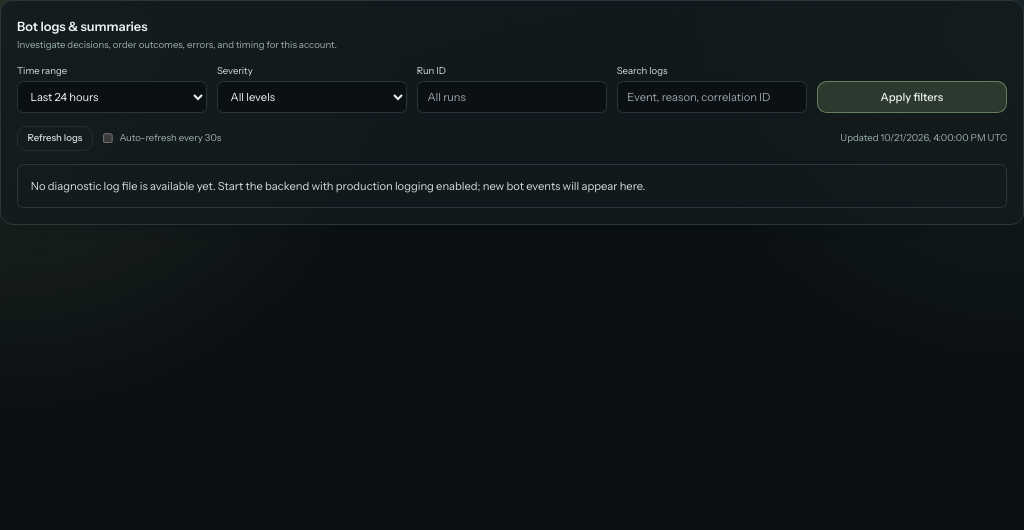
it: bot diagnostics › shows missing logging and partial coverage explicitly
The width and height of the screenshot is (1024, 530).
Expected: the text "No diagnostic log file is available yet" is shown, [31,179,645,193]
Click the button "Refresh logs".
click(55, 139)  # box [17,126,93,151]
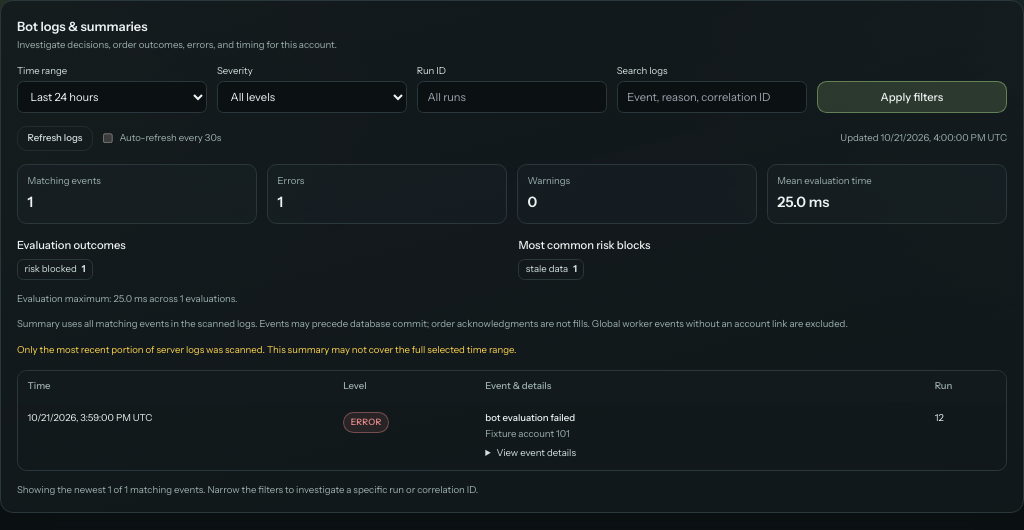
Expected: the text "Only the most recent portion" is shown, [17,344,516,355]
Expected: the text "Showing the newest" is shown, [17,484,108,495]
